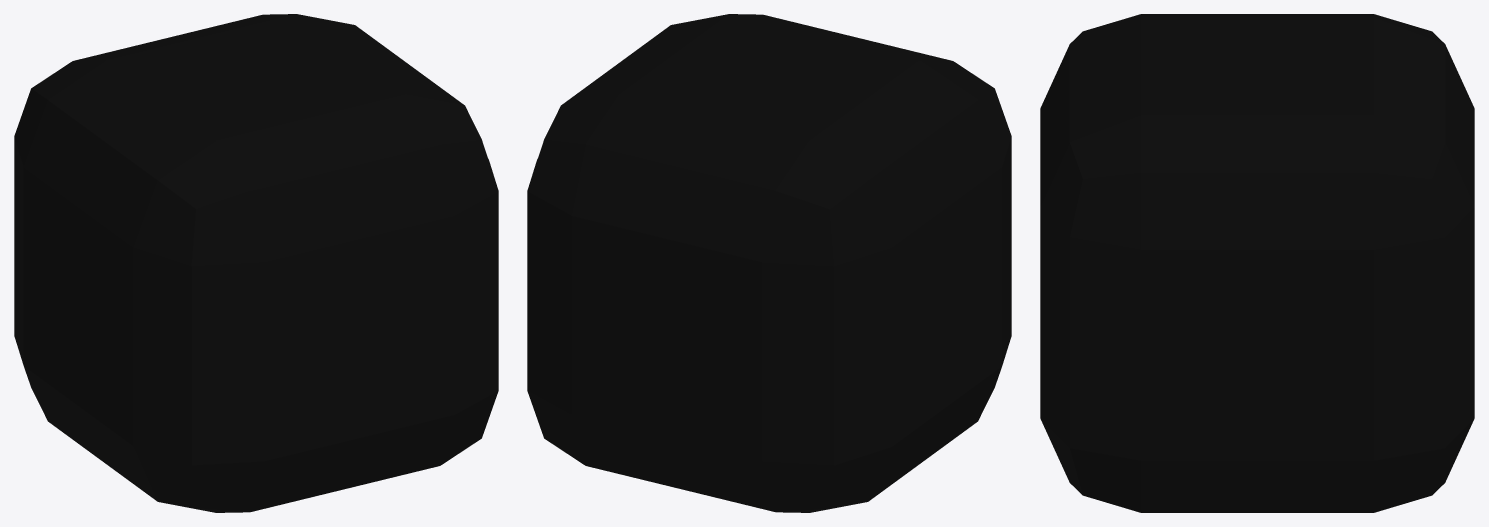
Rendered from ammo_pickup_machinegun.gltf.
The picture shows the model from 3 angles, left to right: view 1: azimuth 30°, elevation 25°; view 2: azimuth 150°, elevation 25°; view 3: azimuth 270°, elevation 25°; orthographic projection. The views are drawn at different scales.
Parts seen in each view (by area): view 1: AMMO; view 2: AMMO; view 3: AMMO.
Boxes of the visible parts, x1,y1,x2,y2 form: AMMO: (14,14,498,512); AMMO: (527,14,1011,512); AMMO: (1040,14,1474,512).
Size of the model in its own units: 0.3671 by 0.3671 by 0.3671.
1 material, 1 textured.
